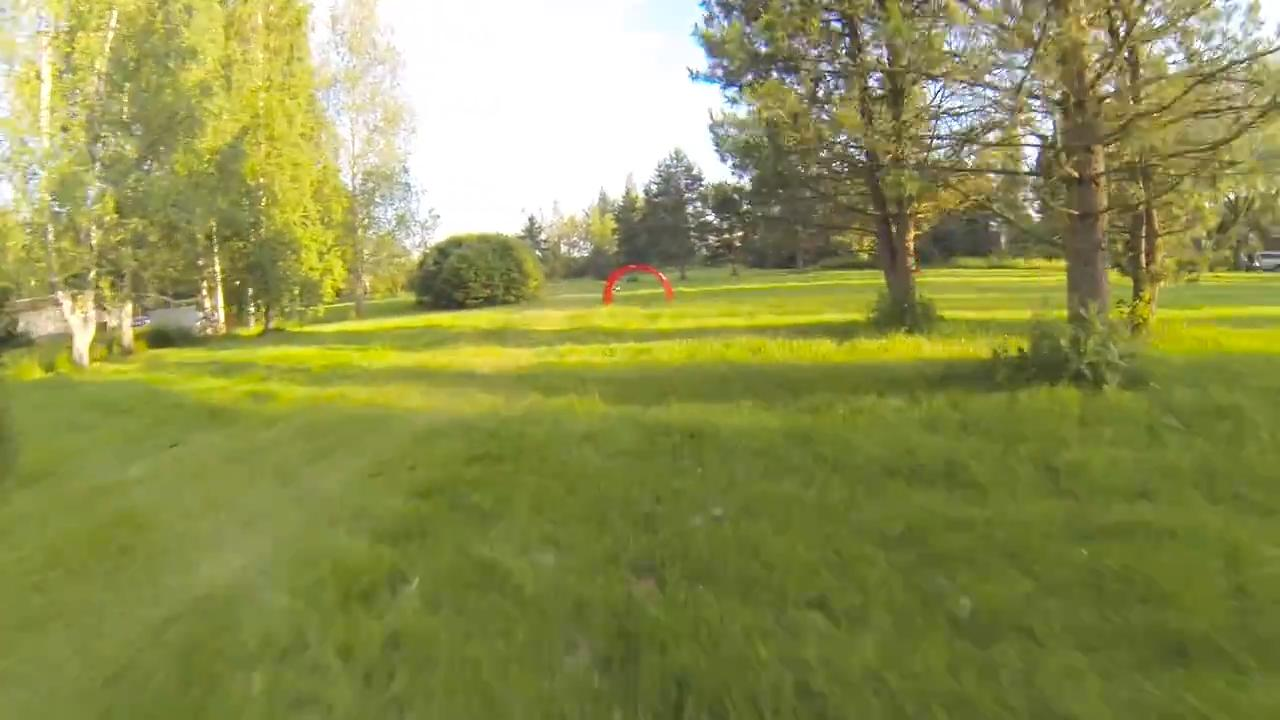gate: (601, 263, 673, 307)
